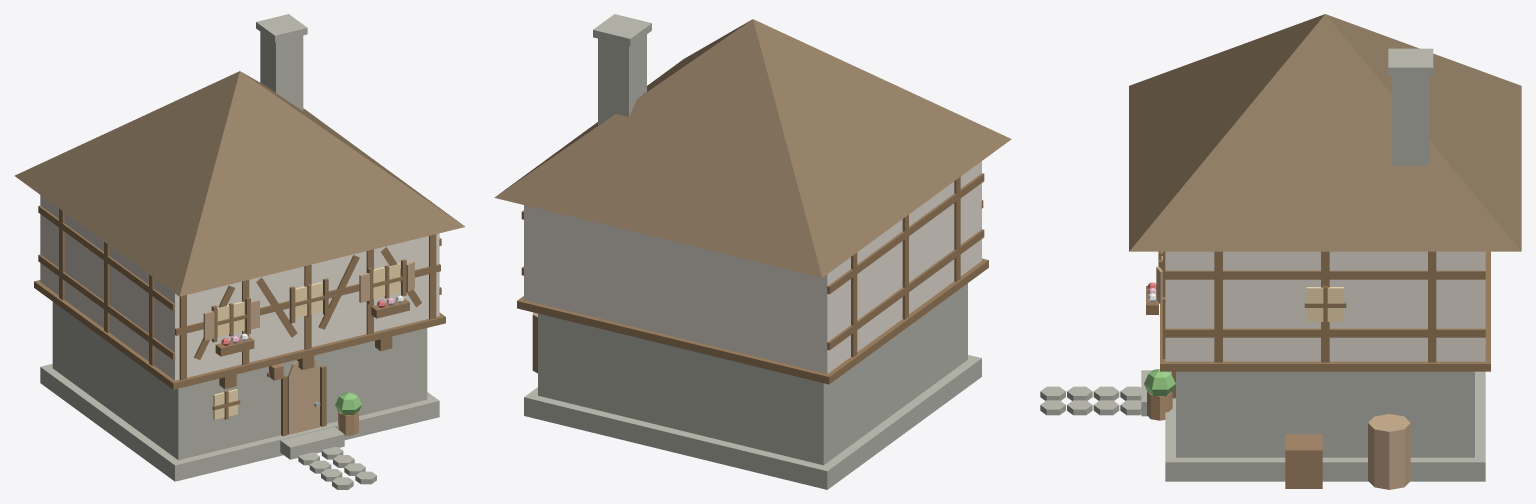
File: medium_house.glb
3 views of the same model, side by side, from view 1: azimuth 30°, elevation 25°; view 2: azimuth 150°, elevation 25°; view 3: azimuth 270°, elevation 25° (orthographic). The views are drawn at different scales.
Parts seen in each view (by area): view 1: roof, floor1_walls, floor2_walls, base_course, floor_divider, chimney, door, front_step, timber_h_l_0.15, timber_h_l_0.21, chimney_cap, timber_h_f_mid (+12 smaller); view 2: roof, floor2_walls, floor1_walls, base_course, floor_divider, chimney, timber_h_l_0.21, timber_h_l_0.15, chimney_cap, timber_v_l_-0.1, timber_v_l_0.1, timber_v_l_0.0; view 3: roof, floor2_walls, floor1_walls, base_course, floor_divider, chimney, timber_h_r_0.21, timber_h_r_0.15, barrel, crate, chimney_cap, side_win_glow (+5 smaller).
Part boxes in pixels (x1,y1,x2,y2): roof: [14, 71, 465, 296]; floor1_walls: [52, 302, 427, 460]; floor2_walls: [40, 195, 439, 380]; base_course: [40, 364, 439, 481]; floor_divider: [34, 280, 445, 389]; chimney: [260, 32, 303, 110]; door: [287, 370, 319, 434]; front_step: [280, 427, 344, 459]; timber_h_l_0.15: [38, 254, 175, 359]; timber_h_l_0.21: [38, 205, 175, 310]; chimney_cap: [256, 14, 307, 42]; timber_h_f_mid: [175, 264, 440, 335]; roof: [494, 19, 1011, 277]; floor2_walls: [524, 161, 981, 373]; floor1_walls: [538, 283, 967, 465]; base_course: [524, 355, 981, 489]; floor_divider: [517, 258, 988, 384]; chimney: [598, 34, 646, 125]; timber_h_l_0.21: [827, 173, 984, 294]; timber_h_l_0.15: [827, 229, 984, 350]; chimney_cap: [593, 14, 651, 46]; timber_v_l_-0.1: [954, 177, 960, 281]; timber_v_l_0.1: [851, 252, 857, 357]; timber_v_l_0.0: [902, 214, 908, 319]; roof: [1129, 14, 1521, 251]; floor2_walls: [1165, 251, 1485, 361]; floor1_walls: [1176, 371, 1474, 457]; base_course: [1165, 371, 1485, 481]; floor_divider: [1160, 251, 1490, 371]; chimney: [1392, 75, 1429, 165]; timber_h_r_0.21: [1165, 270, 1485, 279]; timber_h_r_0.15: [1165, 328, 1485, 337]; barrel: [1368, 414, 1410, 489]; crate: [1285, 434, 1322, 488]; chimney_cap: [1388, 48, 1433, 75]; side_win_glow: [1306, 287, 1343, 321].
Bounding box in the file's own units: 0.3938 × 0.405 × 0.4508.
